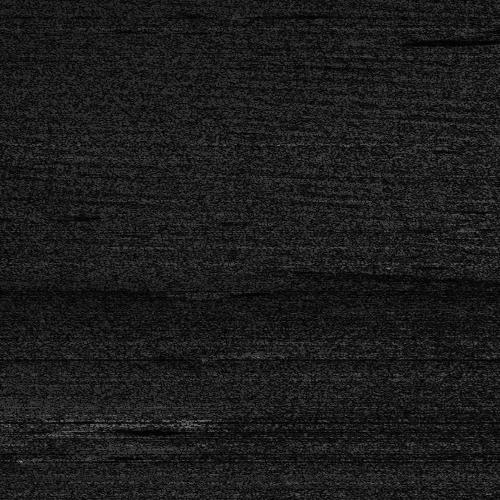rock: (349, 35, 432, 44), (180, 288, 233, 293), (441, 27, 482, 32), (240, 11, 281, 14), (451, 225, 482, 228)
shadow: (391, 35, 496, 44), (207, 288, 278, 293), (261, 11, 336, 14), (462, 27, 500, 32), (467, 225, 489, 228)
